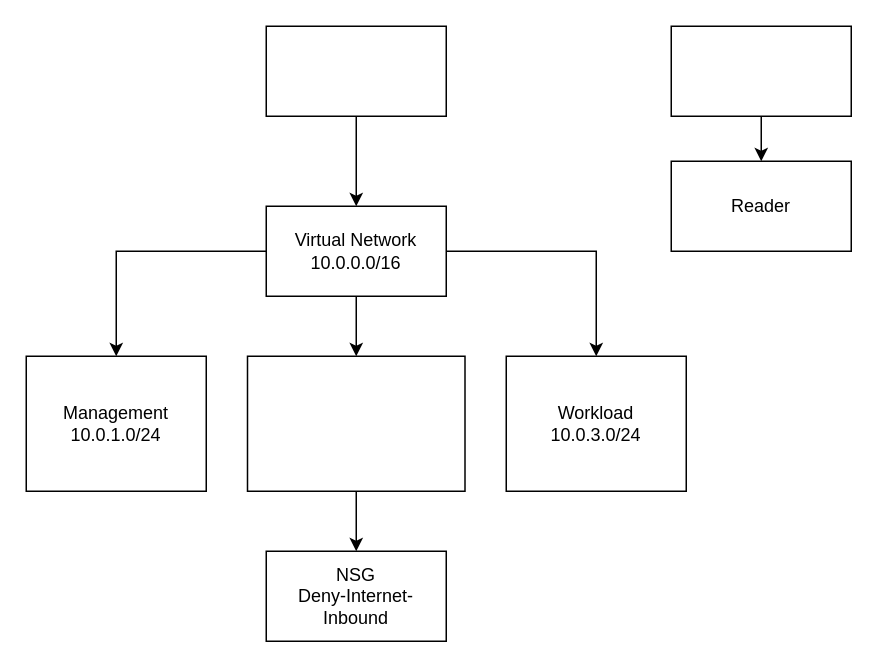
The diagram is 878 pixels wide and 668 high, and some of its shapes have lost their labels. Here are the shapes that lost their labels. From the top down, the centre of each, then its label:
[355,70]: Internet
[760,70]: RBAC
[355,423]: Private 10.0.2.0/24
